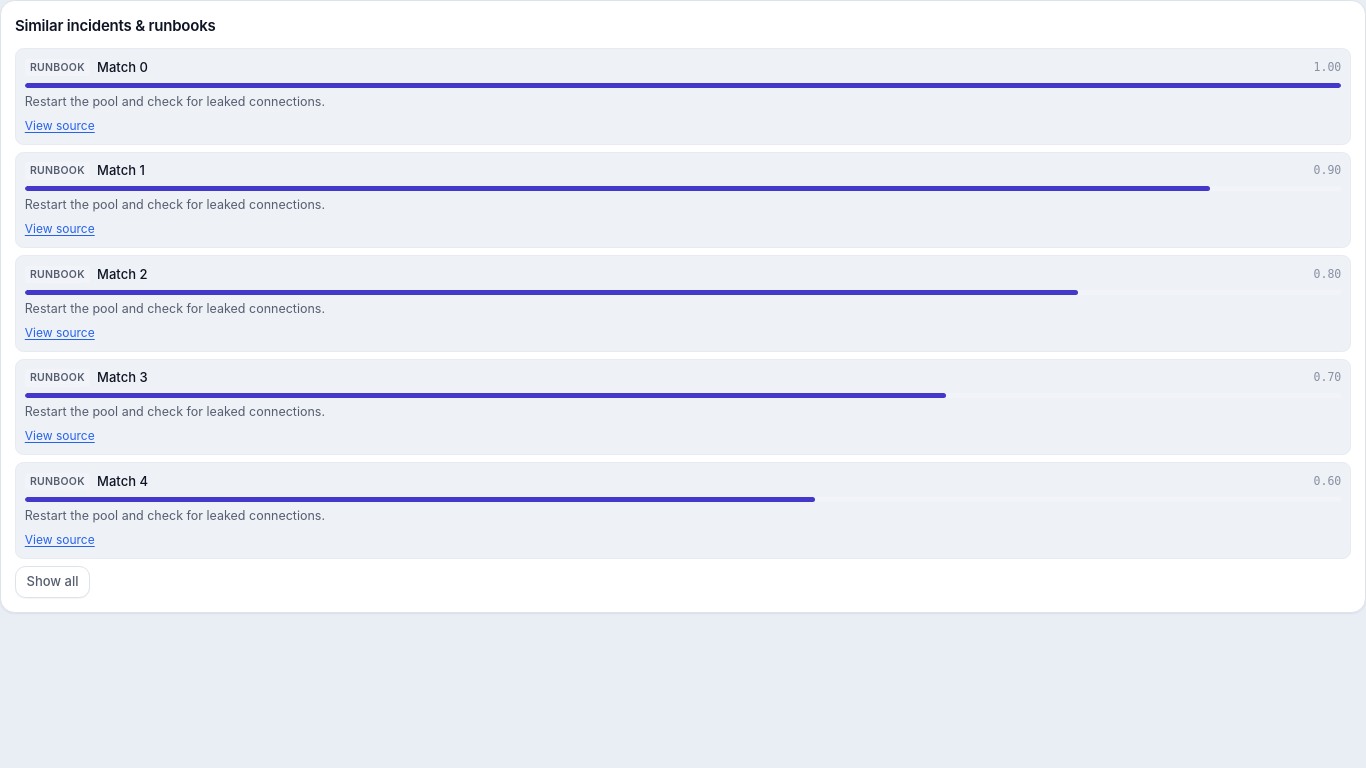
SimilarityMatchList › offers a "show all" control that lazily fetches the uncapped list, not a client-side reslice (FR-066/P-4)
Check: the number of headings is 5, box [97,58,148,77]; [97,161,145,181]; [97,265,147,284]; [97,368,148,388]; [97,472,148,491]
Click the button "Show all" at [52, 582], box [15,566,90,598]
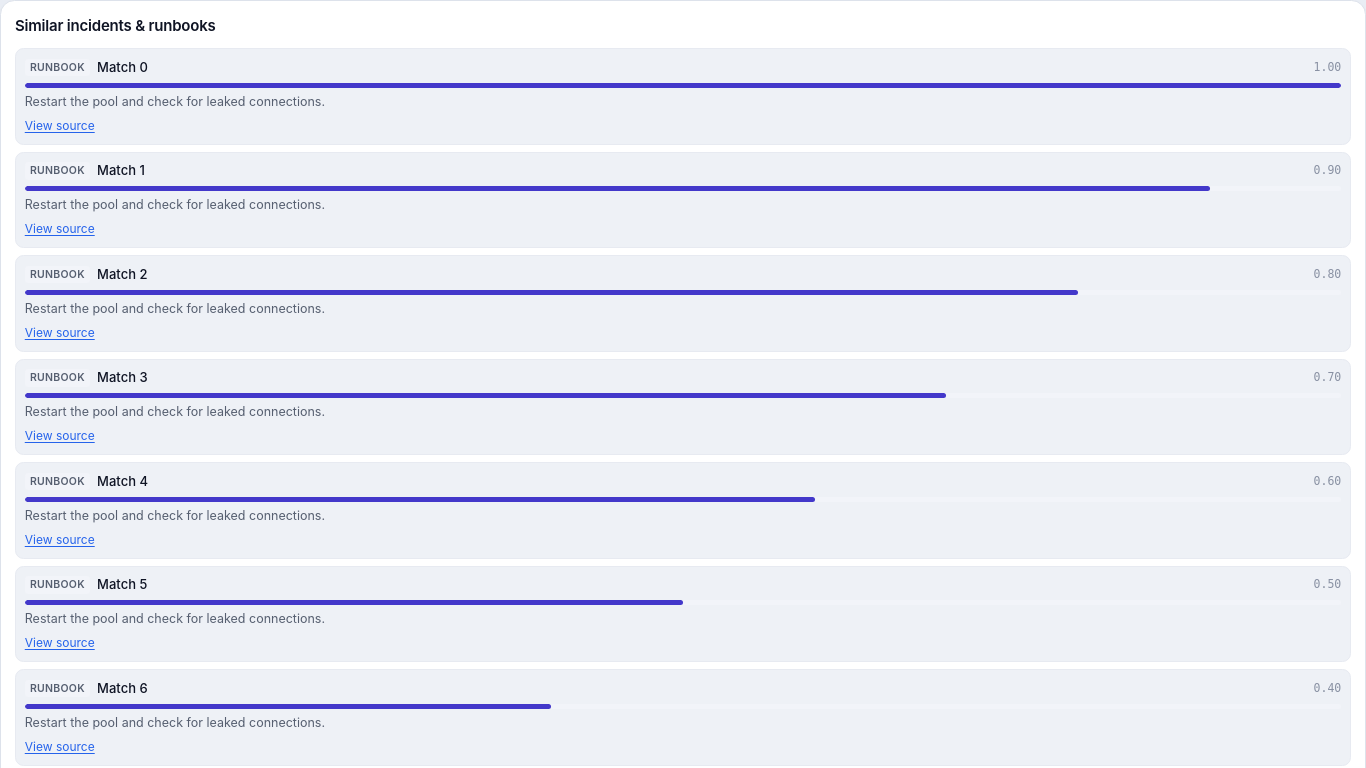
Check: the number of headings is 8
